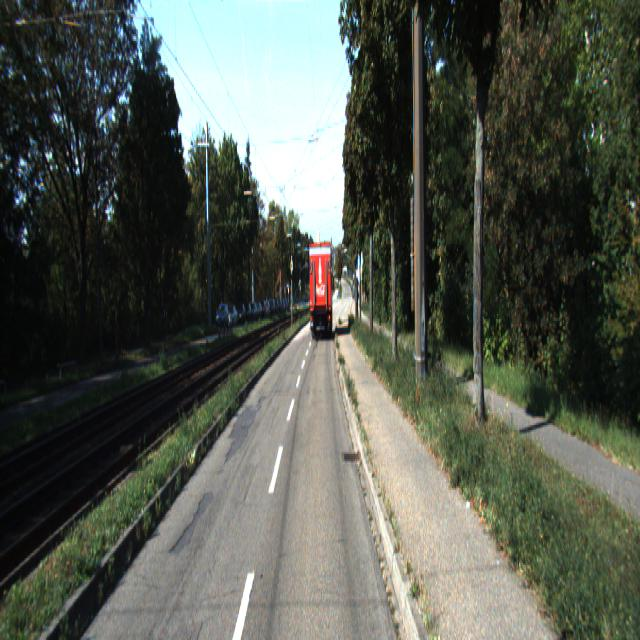Car: (308, 242, 334, 343), (215, 302, 229, 331)
